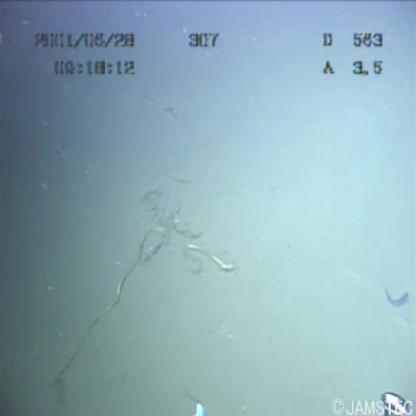Rov: (190, 387, 217, 416)
Rác: (53, 166, 248, 314)
